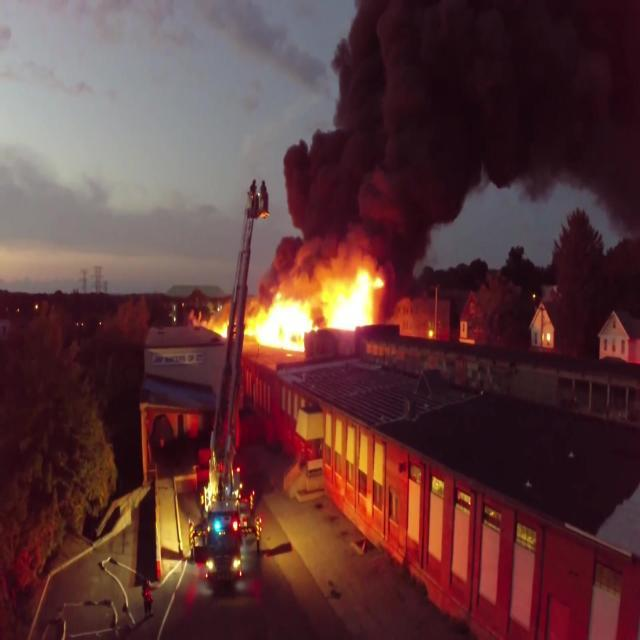Fire: (255, 277, 403, 351), (215, 310, 259, 350), (208, 318, 228, 336)
Smoke: (316, 0, 638, 180), (276, 102, 430, 258)
